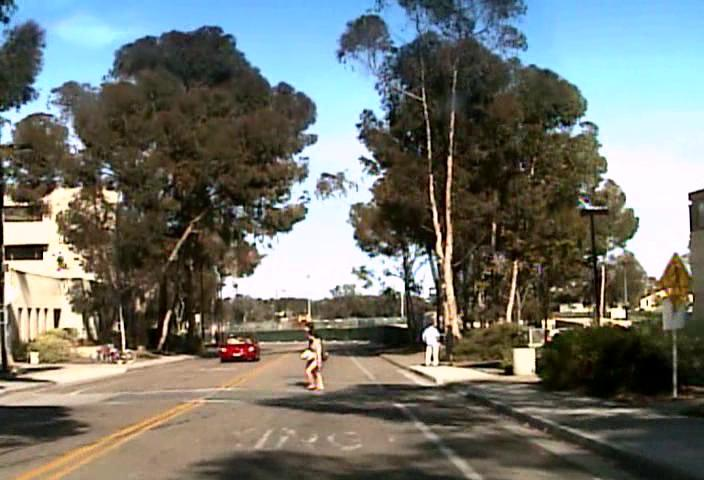pedestrianCrossing: (658, 251, 691, 308)
